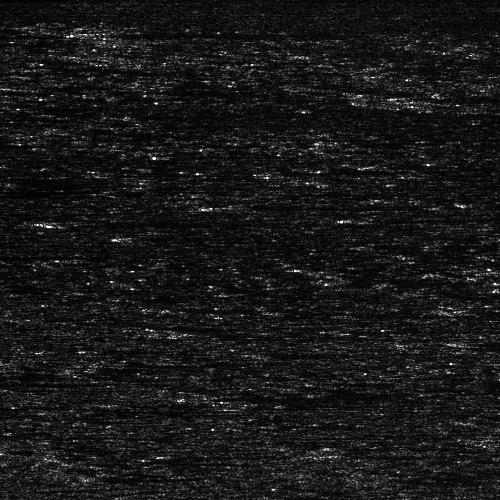rock: (25, 25, 170, 40), (440, 334, 493, 347), (0, 218, 80, 225), (197, 202, 270, 209), (429, 306, 450, 313)
shadow: (98, 25, 307, 40), (0, 23, 63, 42), (234, 202, 387, 209), (39, 218, 182, 225), (0, 251, 70, 260), (467, 334, 500, 347), (440, 306, 500, 313)
